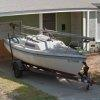Boat: (2, 26, 89, 83)
